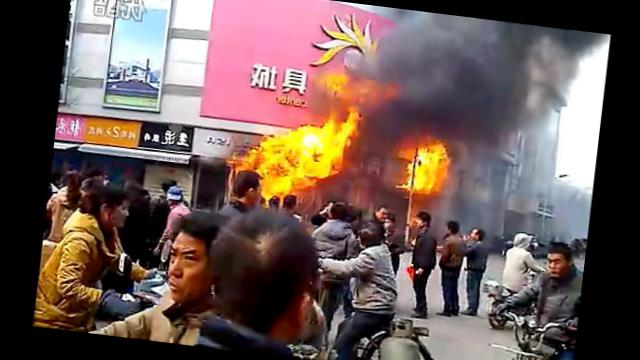fire: (260, 127, 299, 200), (412, 142, 450, 195), (293, 124, 326, 178), (320, 116, 348, 179), (343, 105, 362, 142), (241, 146, 267, 172), (293, 176, 314, 194), (398, 142, 417, 159), (406, 162, 415, 188), (395, 180, 405, 188)
